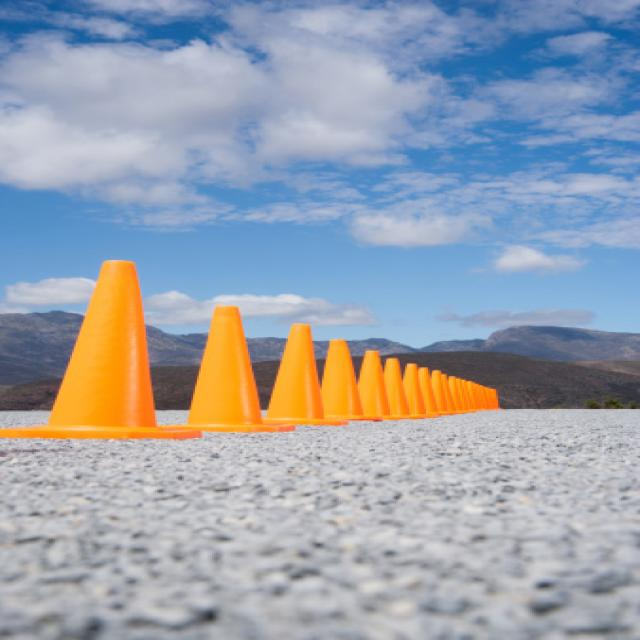cone: (4, 259, 199, 442), (184, 308, 286, 432), (265, 322, 335, 427), (316, 338, 366, 422), (351, 347, 386, 419)
